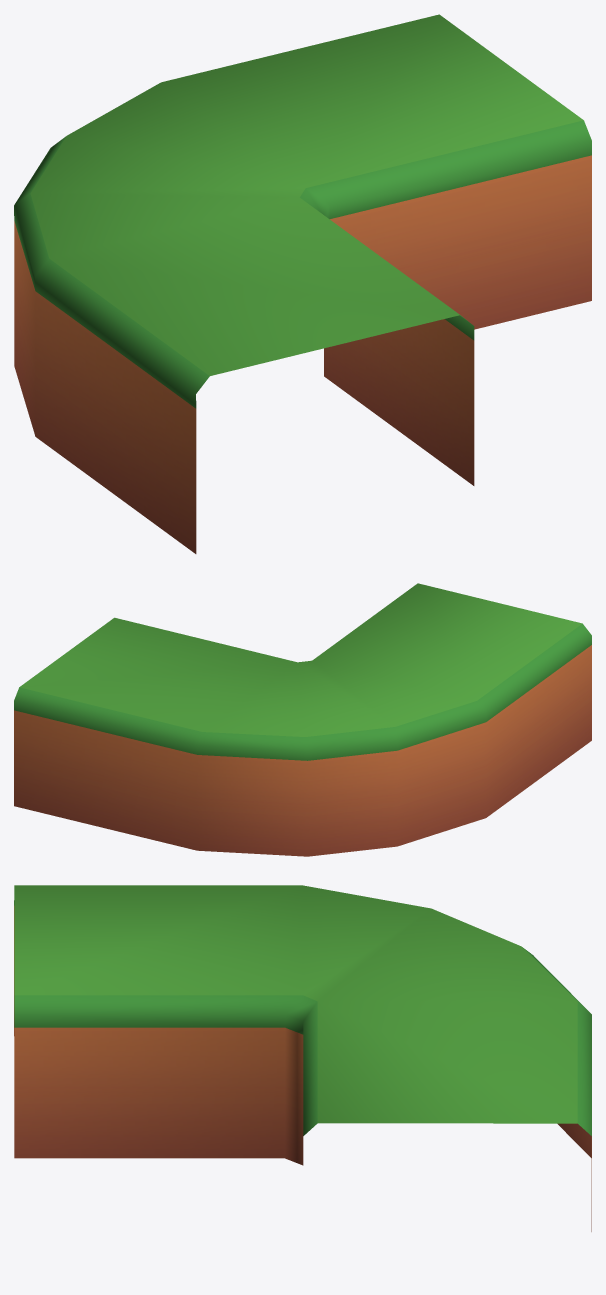
The model's file is L Path 01.FBX.
The picture shows the model from 3 angles, top to bottom: view 1: azimuth 30°, elevation 25°; view 2: azimuth 150°, elevation 25°; view 3: azimuth 270°, elevation 25°; orthographic projection. The views are drawn at different scales.
Visible parts, largest first — view 1: L Path 01; view 2: L Path 01; view 3: L Path 01.
Boxes of the visible parts, x1,y1,x2,y2 form: L Path 01: (14,14,591,553); L Path 01: (14,583,591,856); L Path 01: (14,885,591,1231).
Bounding box in the file's own units: 1000 × 300 × 1001.
Materials: 1 (1 with a texture image).
